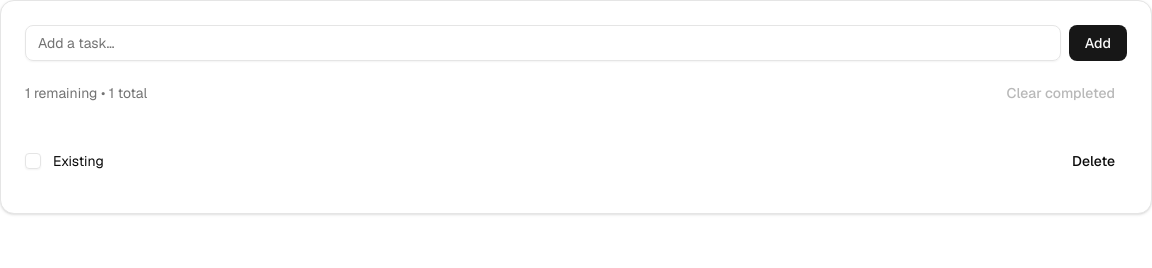
Test: TodoApp › shows a fallback error message when update throws a non-Error value
This screenshot has width=1152, height=268.
Step 1. Click the checkbox named "Mark \"Existing\" as completed" → (33, 161), box [25,153,41,169]
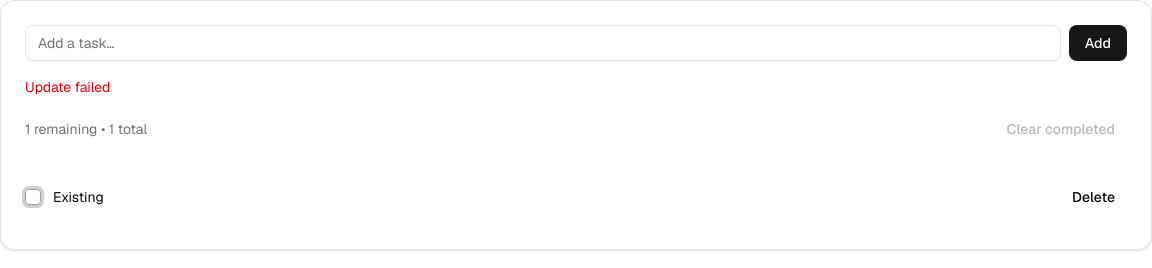
Expected: the message reads "Update failed", [25,78,110,96]
